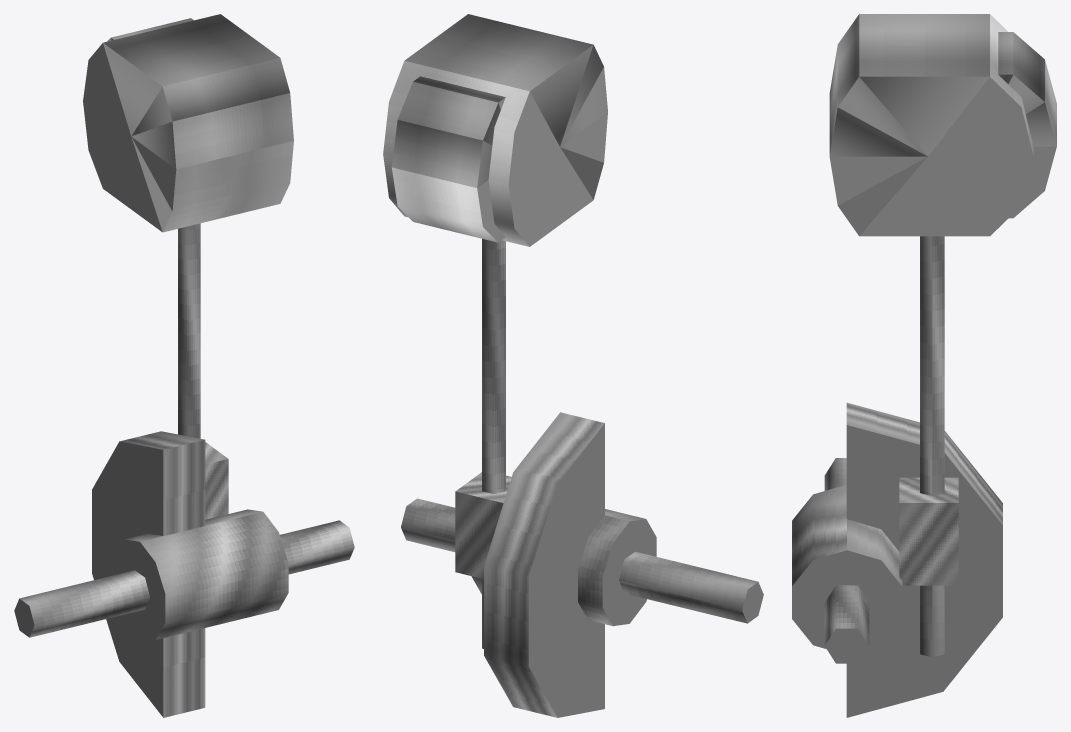
Rendered from DrumSet_BassDrumBeaterArm.obj.
3 views of the same model, side by side, from view 1: azimuth 30°, elevation 25°; view 2: azimuth 150°, elevation 25°; view 3: azimuth 270°, elevation 25° (orthographic). The views are drawn at different scales.
Visible parts, largest first — view 1: Converted object 0(m0), Converted object 0(m1); view 2: Converted object 0(m0), Converted object 0(m1), Converted object 0(m2); view 3: Converted object 0(m0), Converted object 0(m1), Converted object 0(m2).
Boxes of the visible parts, box(x1,y1,x2,y2) form: Converted object 0(m0): box(14, 223, 354, 717); Converted object 0(m1): box(83, 14, 293, 232); Converted object 0(m0): box(401, 239, 763, 717); Converted object 0(m1): box(383, 14, 607, 246); Converted object 0(m2): box(391, 76, 505, 242); Converted object 0(m0): box(792, 236, 1002, 717); Converted object 0(m1): box(829, 14, 1033, 236); Converted object 0(m2): box(998, 32, 1056, 218).
Size of the model in its own units: 4.32 by 8.07 by 2.83.
